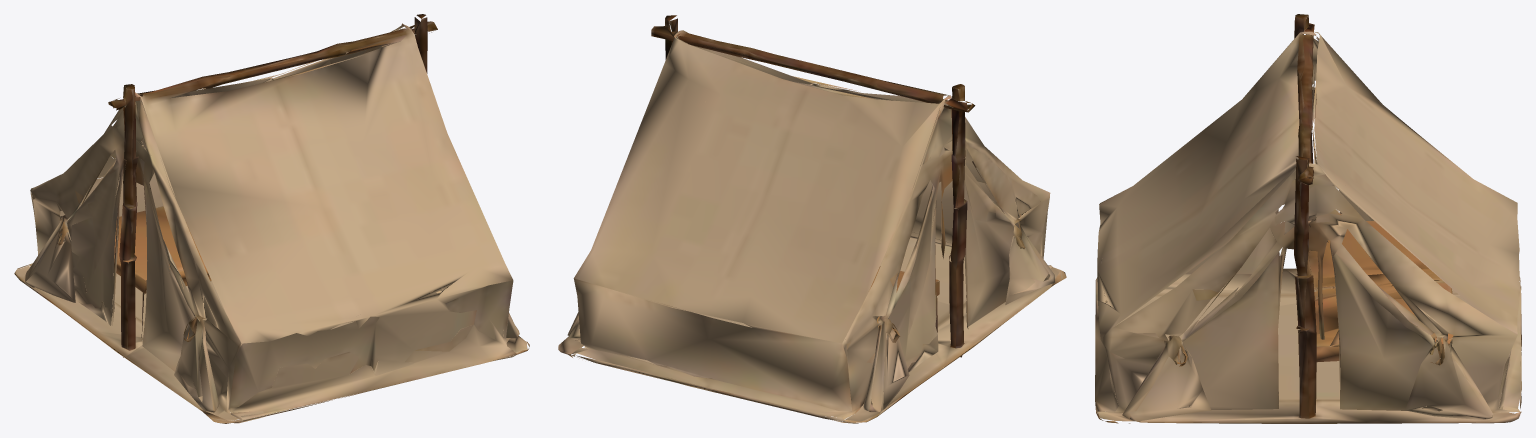
The model's file is carpa.movil.glb.
3 views of the same model, side by side, from view 1: azimuth 30°, elevation 25°; view 2: azimuth 150°, elevation 25°; view 3: azimuth 270°, elevation 25° (orthographic).
Parts seen in each view (by area): view 1: geometry_0; view 2: geometry_0; view 3: geometry_0.
Part boxes in pixels (x1,y1,x2,y2): geometry_0: (14,14,529,423); geometry_0: (558,15,1066,423); geometry_0: (1095,14,1521,423).
Bounding box in the file's own units: 2.59 × 2.1 × 3.
1 material, 1 textured.
